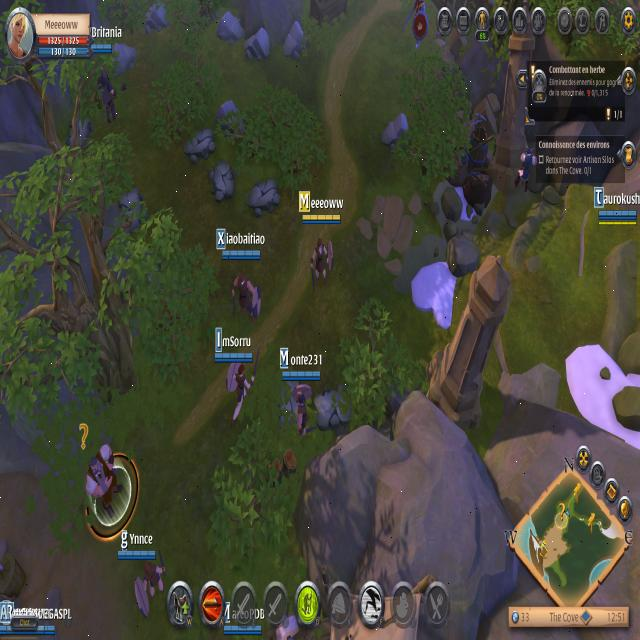broken stone: (314, 385, 354, 437), (245, 173, 282, 220), (181, 122, 219, 166), (66, 104, 95, 160), (115, 185, 146, 237), (207, 158, 237, 206)
stone: (379, 106, 411, 153), (215, 98, 248, 142), (281, 18, 309, 62), (216, 5, 244, 49), (110, 35, 138, 78), (242, 23, 271, 64), (141, 0, 169, 37)
